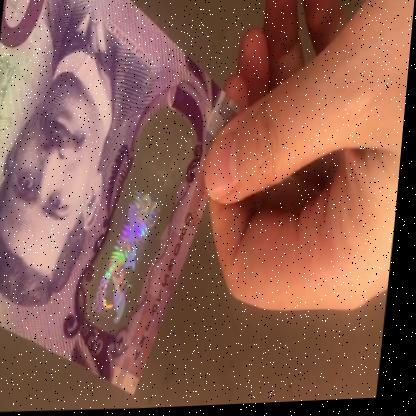50F: (94, 128, 176, 331)
